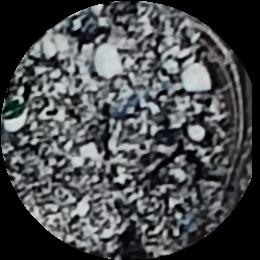Nothing: (2, 1, 260, 260)
